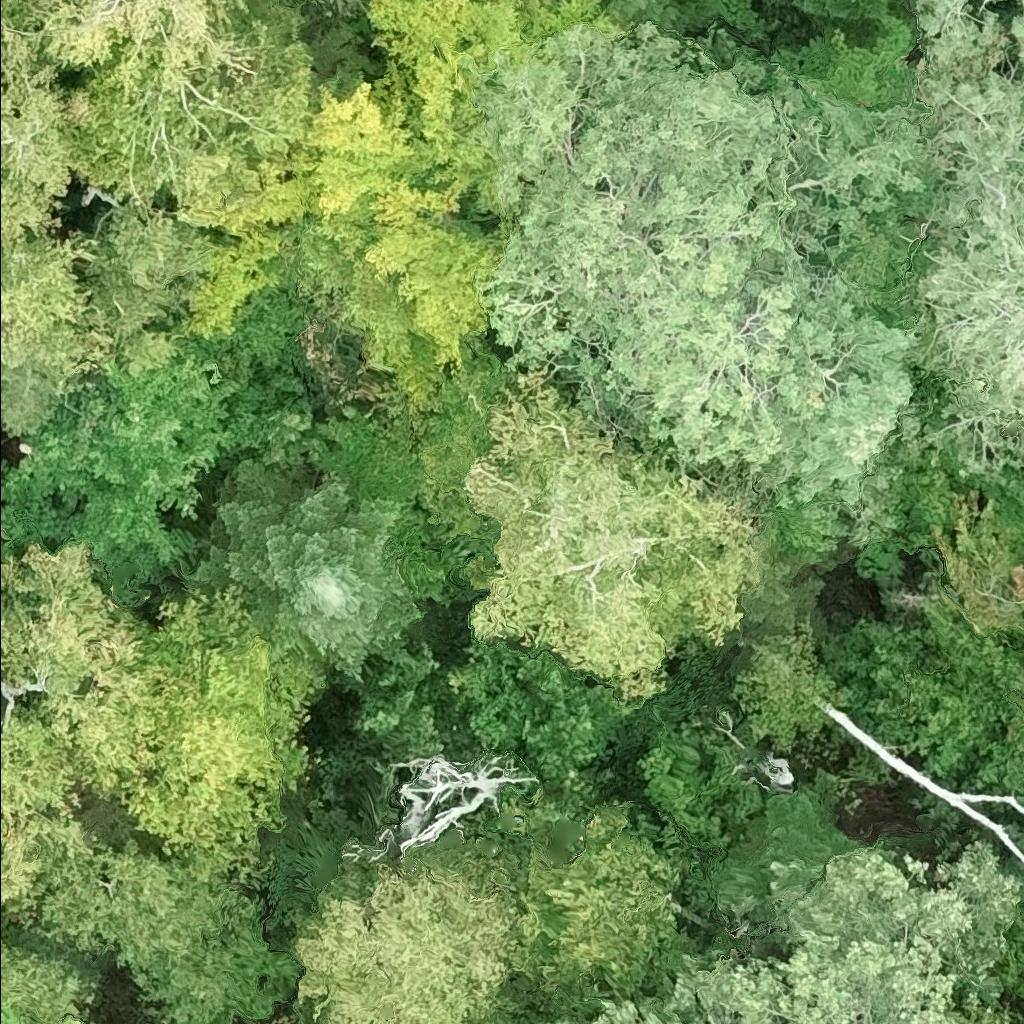crown: (463, 24, 922, 545), (172, 69, 518, 417), (3, 287, 370, 612), (29, 0, 310, 374), (468, 370, 760, 707), (585, 840, 1020, 1023), (258, 339, 522, 605), (121, 584, 330, 882), (0, 541, 168, 901), (358, 607, 640, 821), (368, 0, 633, 218), (6, 837, 304, 1023), (191, 461, 425, 683), (900, 59, 1023, 481), (294, 830, 531, 1023), (510, 802, 697, 1023), (822, 705, 1023, 863), (350, 752, 534, 869), (0, 233, 113, 389), (0, 15, 72, 255), (943, 499, 1023, 648), (915, 0, 1010, 76), (0, 947, 98, 1019), (0, 360, 87, 438), (0, 509, 57, 622), (725, 710, 794, 795), (601, 0, 699, 35), (0, 985, 78, 1023), (779, 0, 888, 21), (953, 994, 1023, 1023), (0, 0, 36, 29), (320, 0, 372, 11), (1015, 22, 1023, 62), (468, 0, 487, 3), (555, 0, 562, 1)
